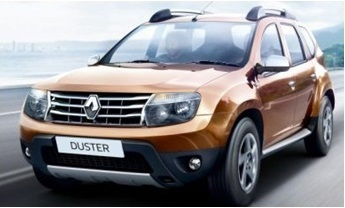DUSTER: (54, 135, 123, 157)
